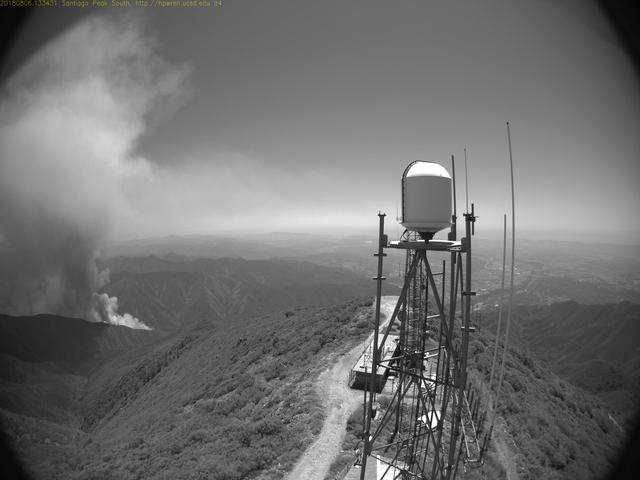smoke: (2, 13, 166, 337)
